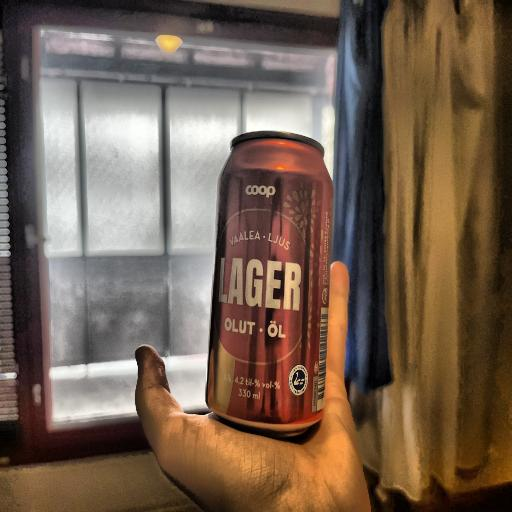coop_larger: (192, 142, 351, 447)
